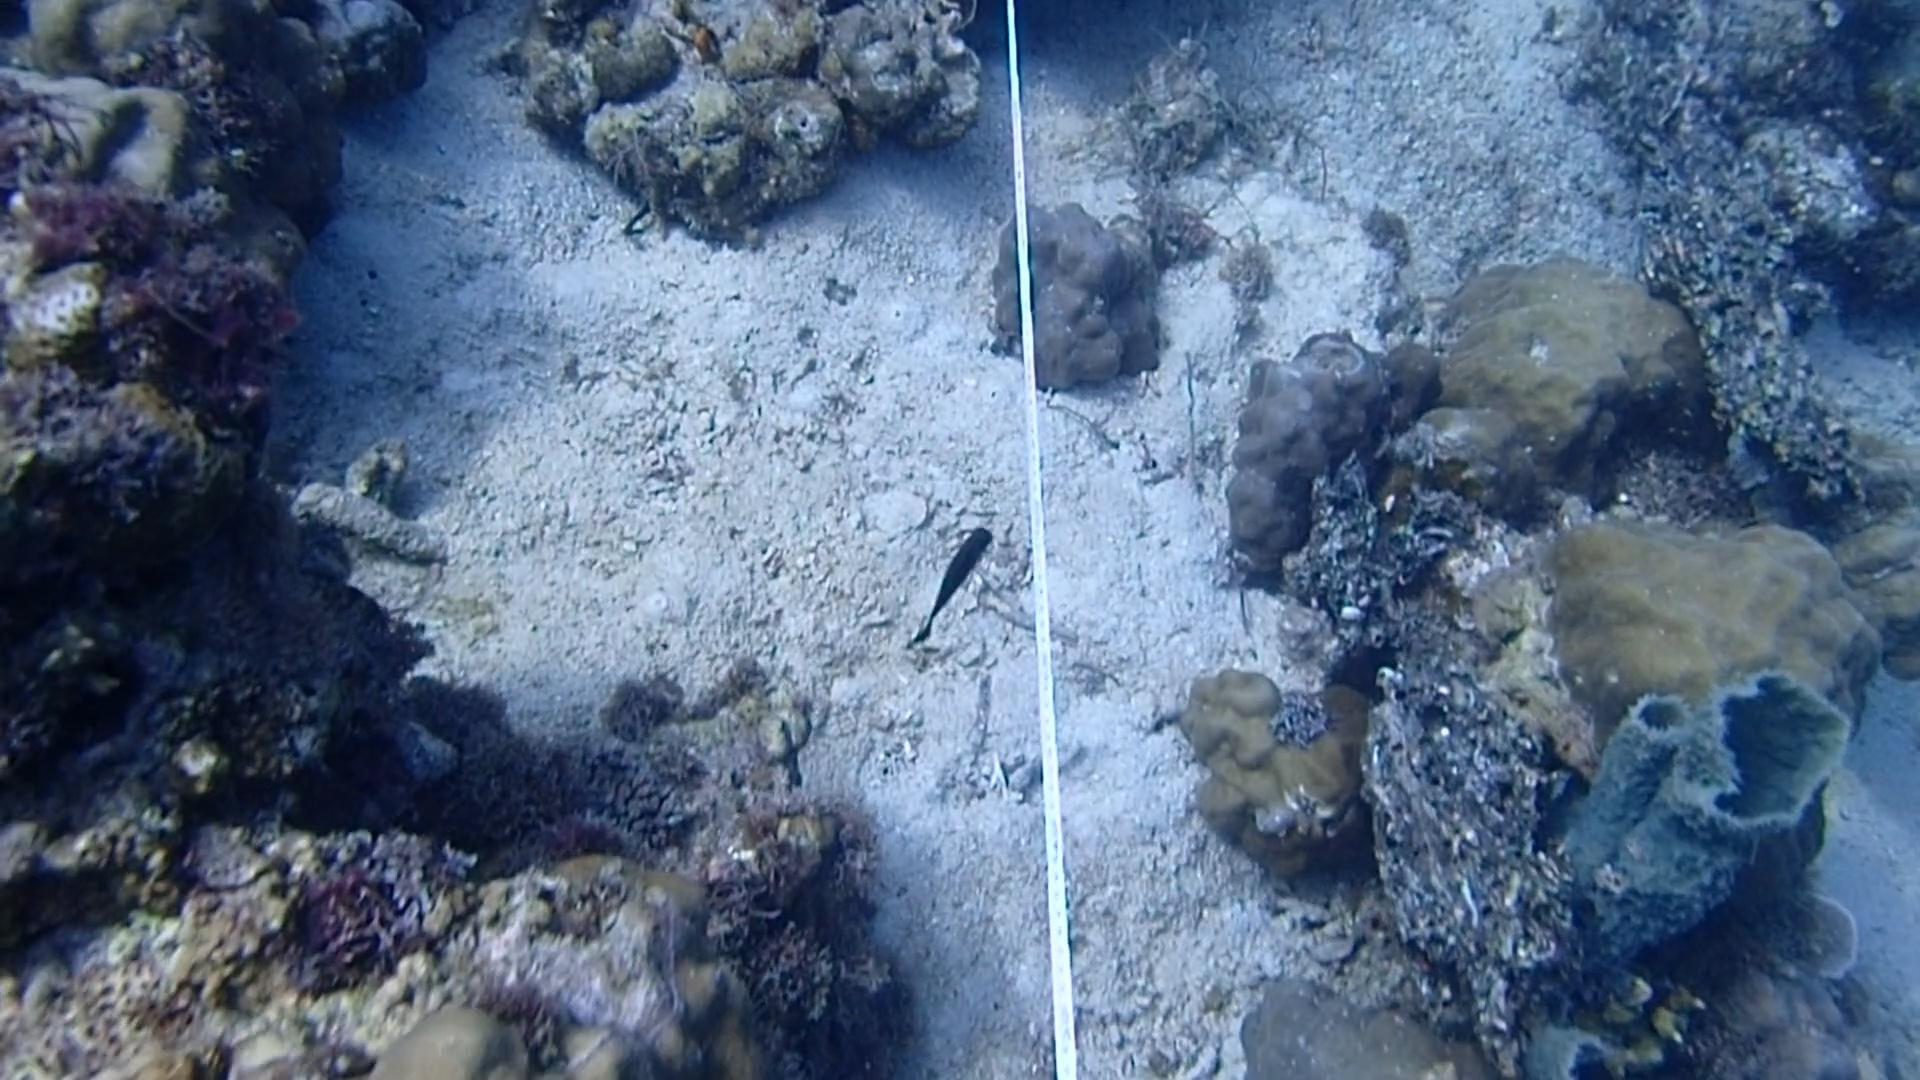Dark Fish: (898, 510, 1011, 645)
